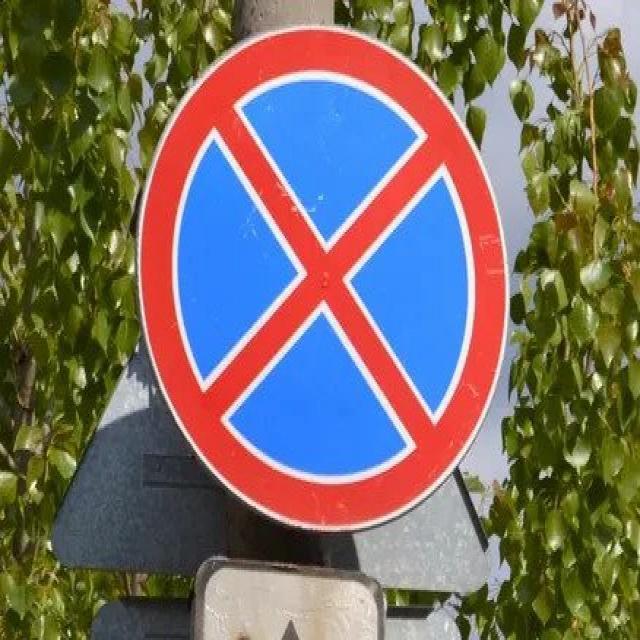no stopping: (131, 23, 513, 538)
